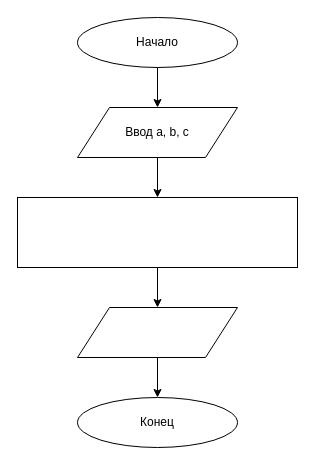
Some shapes in this 315 by 465 pixel diagram are drawn without their labels. The shapes that lost their labels are listed below. From the top down, each one's centre as x and y in pixels, then its label:
At [157,232]: "y = (a - 2sin^3 b) / (a(tg c + b))".
At [157,332]: "Вывод y".
